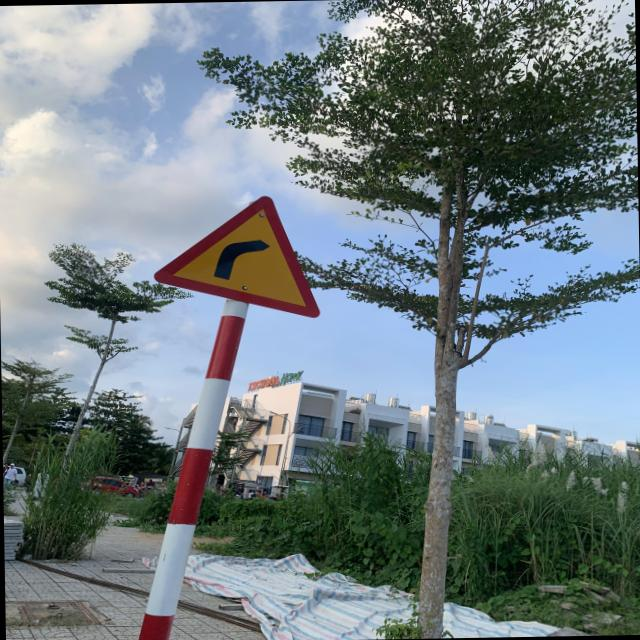Duong_Nguoi_Di_Bo_Cat_Ngang: (150, 190, 318, 322)
